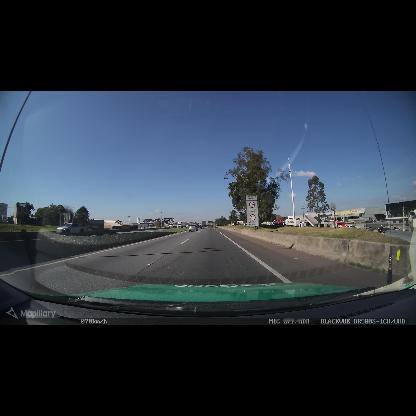I-SA: (246, 195, 258, 200)
R-19: (246, 200, 259, 226)
